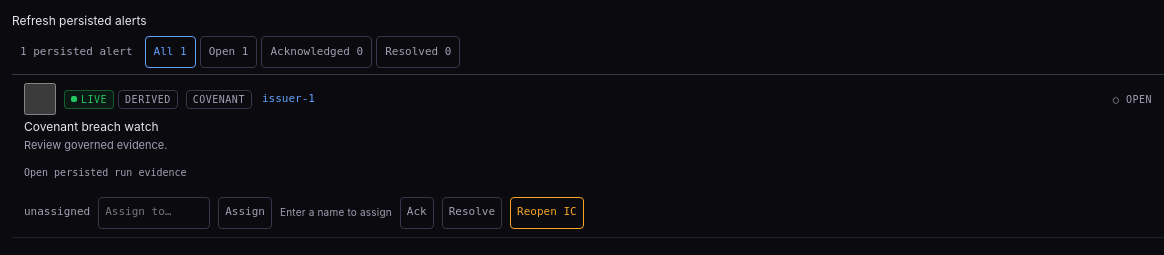
Scenario: AlertInbox · persisted event presentation › preserves the material-alert IC reopen workflow with retry and a synchronous duplicate fence
Click the button "Reopen IC".
click(547, 213)  # box [510, 197, 584, 229]
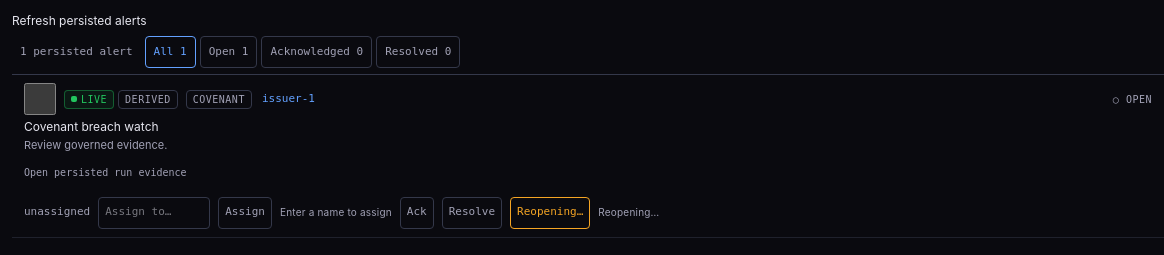
Click the button named "Reopen IC".
click(550, 213)  # box [510, 197, 590, 229]
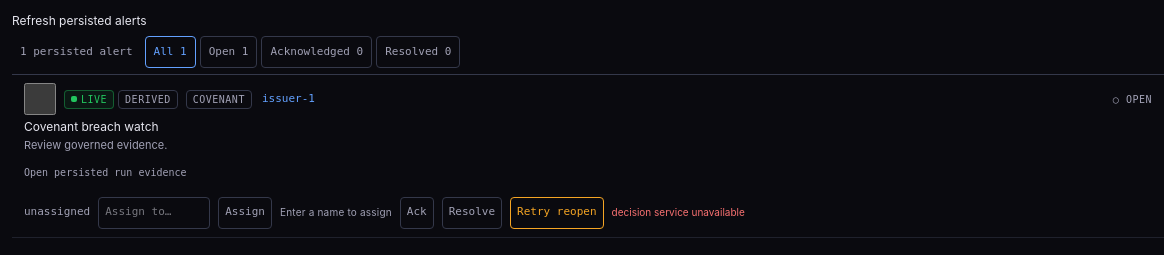
Now the message reads "decision service unavailable", box [612, 206, 745, 218]
Click the button "Retry reopen".
click(557, 213)  # box [510, 197, 604, 229]
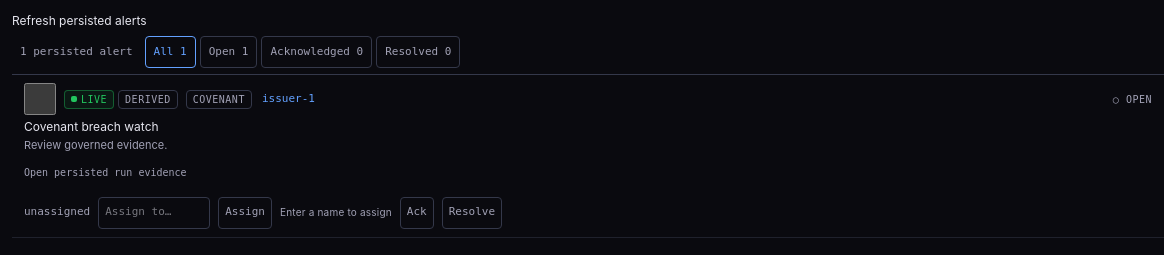
Now the button "reopen" is gone
